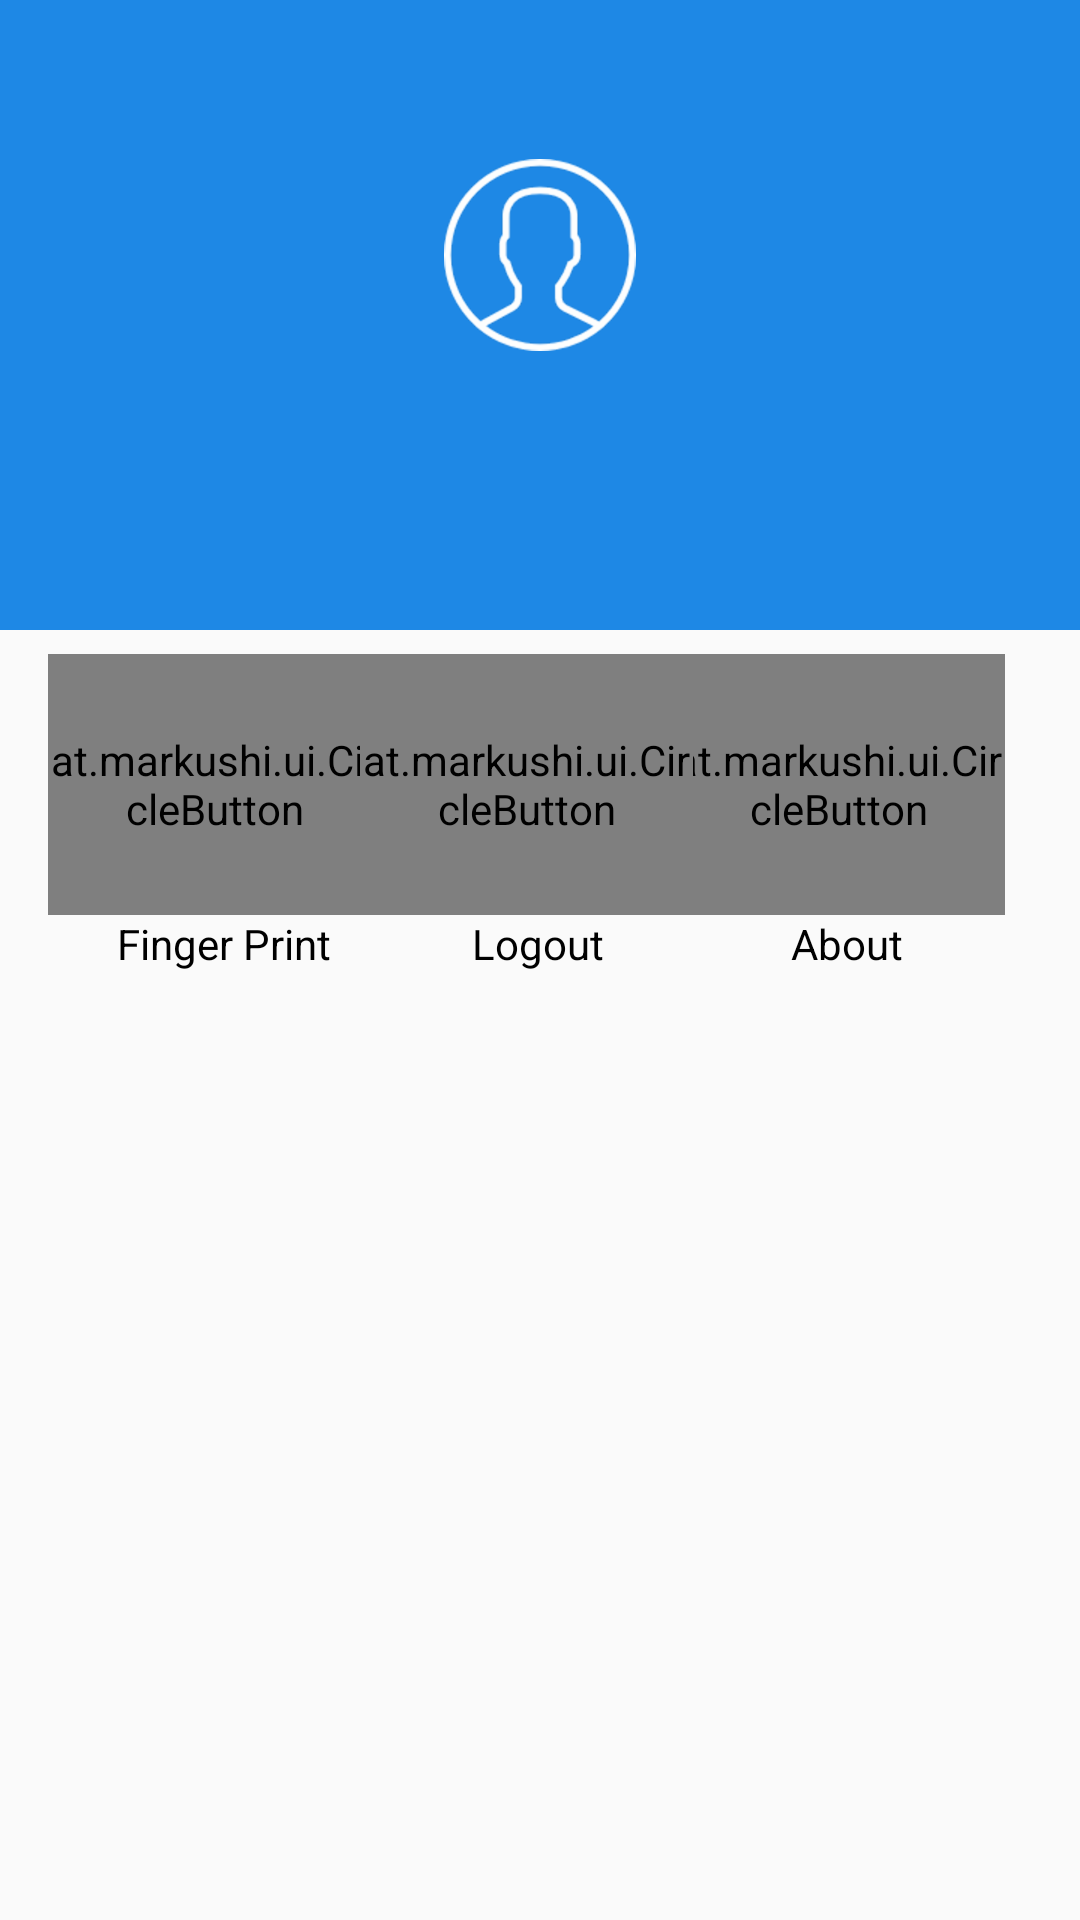

Icon bounding boxes for this 1080px x 1920px phone screenshot, format Rect(x1, y1, x2, y2):
profile user larges: Rect(444, 159, 636, 351)
